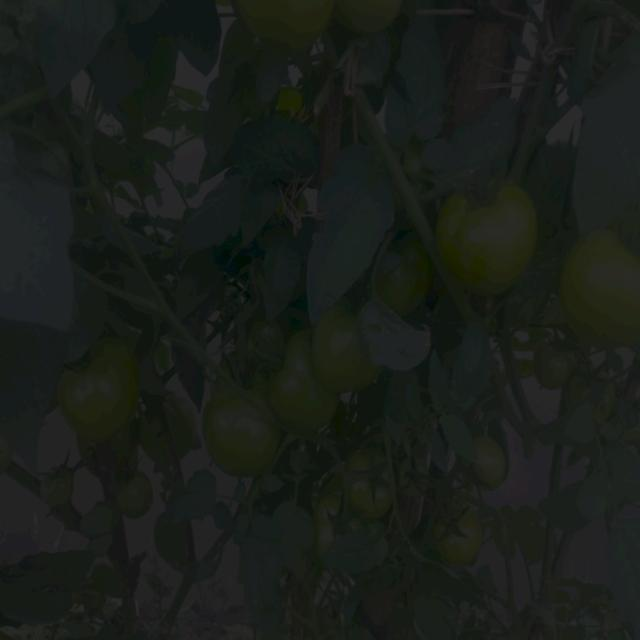tomato: (562, 232, 640, 348), (443, 189, 534, 288), (60, 340, 146, 435), (312, 313, 375, 400), (208, 391, 272, 474), (283, 338, 337, 430), (236, 1, 324, 50), (382, 241, 431, 325), (435, 494, 490, 560), (348, 456, 394, 517), (113, 475, 164, 524), (332, 4, 402, 39), (472, 434, 510, 487), (538, 348, 575, 400), (318, 492, 355, 542), (170, 394, 196, 463), (39, 467, 78, 508), (395, 462, 427, 500)
